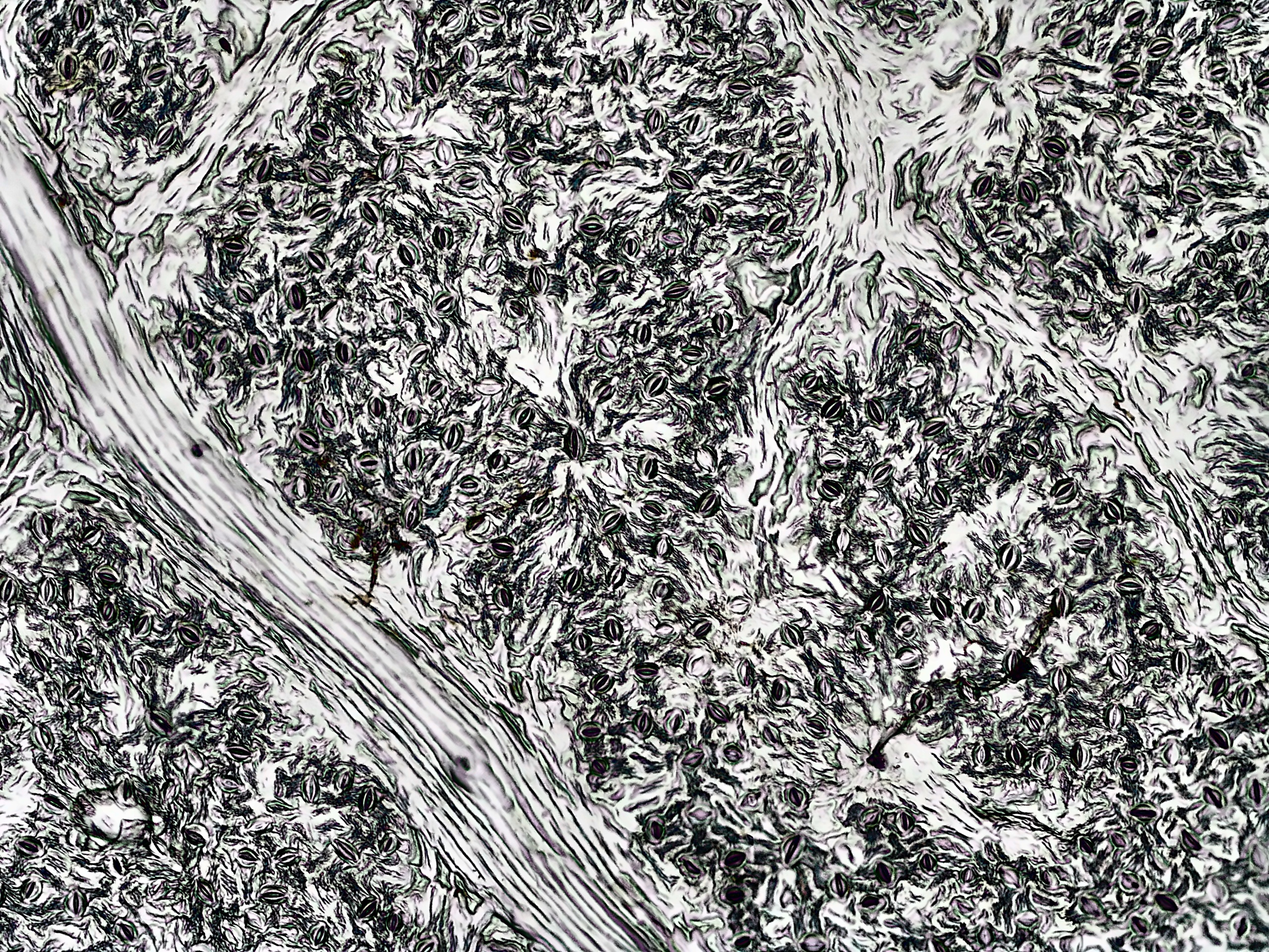stomata: (1048, 477, 1079, 505), (401, 496, 425, 531), (1123, 284, 1149, 316), (720, 149, 753, 174), (564, 428, 587, 463), (974, 53, 1002, 81), (30, 512, 55, 543), (592, 141, 615, 174), (333, 837, 361, 864), (764, 210, 793, 236), (997, 542, 1023, 571), (772, 117, 806, 139), (404, 444, 427, 476), (1007, 398, 1039, 421), (1113, 572, 1145, 595), (1173, 303, 1201, 329), (378, 148, 400, 181), (743, 40, 772, 65), (711, 2, 735, 32), (940, 325, 963, 356), (442, 420, 464, 452), (637, 496, 664, 522), (1209, 725, 1234, 753), (1103, 703, 1128, 731), (771, 154, 801, 177), (1069, 741, 1092, 771), (304, 202, 335, 224), (1069, 531, 1100, 553), (1003, 650, 1025, 681), (501, 206, 527, 232), (643, 372, 669, 398), (130, 655, 155, 682), (668, 167, 695, 192), (1205, 878, 1232, 903), (896, 645, 923, 670), (477, 2, 505, 26), (613, 57, 636, 86), (782, 834, 805, 863), (473, 375, 508, 394), (507, 66, 529, 96), (994, 595, 1016, 625), (301, 773, 322, 804), (15, 835, 46, 856), (815, 672, 836, 703), (76, 726, 102, 751), (599, 508, 624, 534), (432, 138, 456, 165), (595, 335, 619, 362), (527, 12, 555, 35), (487, 448, 510, 476), (768, 678, 791, 706), (910, 521, 933, 549), (712, 309, 734, 338), (706, 376, 732, 400), (285, 285, 308, 312), (177, 623, 204, 646), (698, 490, 721, 517), (664, 709, 686, 737), (1035, 75, 1064, 96), (874, 542, 895, 571), (309, 917, 328, 949), (1052, 664, 1071, 696), (432, 292, 457, 316), (19, 878, 43, 903), (148, 834, 172, 859), (182, 825, 212, 845), (1096, 111, 1121, 135), (1052, 590, 1072, 620), (222, 921, 245, 947), (482, 103, 505, 129), (594, 263, 620, 286), (565, 55, 584, 86), (1130, 803, 1161, 822), (803, 717, 831, 738), (422, 66, 442, 95), (529, 265, 549, 294), (274, 848, 303, 868), (663, 280, 692, 300), (359, 200, 384, 223), (782, 622, 805, 647), (397, 241, 419, 267), (930, 483, 952, 509), (854, 626, 876, 652), (577, 216, 607, 235), (986, 223, 1016, 242), (306, 122, 333, 143), (639, 454, 660, 481), (819, 481, 846, 502), (830, 527, 851, 554), (978, 453, 999, 480), (1154, 892, 1182, 912), (1056, 24, 1084, 44), (98, 43, 116, 74), (972, 174, 996, 197), (1025, 256, 1048, 280), (1073, 224, 1092, 253), (185, 745, 207, 770), (196, 878, 218, 903), (592, 381, 617, 403), (902, 324, 924, 349), (1235, 278, 1257, 303), (492, 536, 518, 557), (644, 817, 665, 843), (1104, 498, 1125, 524), (963, 599, 984, 625), (259, 884, 291, 901), (697, 444, 717, 471), (829, 871, 849, 898), (961, 678, 981, 705), (458, 42, 477, 70), (67, 890, 86, 918), (306, 249, 329, 272), (704, 543, 727, 566), (1180, 828, 1203, 851), (155, 123, 177, 147), (682, 343, 706, 365), (874, 861, 896, 885), (1202, 785, 1224, 809), (1041, 137, 1065, 159), (1115, 171, 1137, 195), (1222, 504, 1244, 528), (513, 403, 534, 428), (1246, 779, 1267, 804), (653, 533, 671, 562), (737, 658, 755, 687), (563, 567, 583, 593), (1231, 913, 1251, 939), (866, 398, 886, 424), (484, 249, 503, 276), (37, 578, 56, 605), (217, 773, 244, 792), (547, 116, 566, 143), (620, 231, 639, 258), (1177, 184, 1204, 203), (1110, 654, 1129, 681), (432, 225, 454, 248), (358, 897, 380, 920), (507, 144, 530, 166), (703, 202, 725, 225), (591, 672, 614, 694), (761, 724, 783, 747), (922, 416, 945, 438), (945, 446, 968, 468), (1140, 618, 1162, 641), (381, 300, 402, 324), (36, 723, 54, 751), (1082, 894, 1103, 918), (1017, 179, 1038, 203), (1034, 751, 1055, 775), (1209, 675, 1230, 699), (133, 21, 158, 41), (318, 405, 338, 430), (686, 112, 706, 137), (652, 576, 672, 601), (911, 689, 931, 714), (403, 407, 422, 433), (604, 617, 623, 643), (905, 367, 931, 386), (932, 595, 951, 621), (58, 54, 76, 81), (606, 562, 624, 589), (579, 721, 606, 739), (1215, 12, 1242, 30), (689, 34, 711, 56), (860, 808, 882, 830), (336, 531, 359, 552), (688, 654, 709, 677), (708, 701, 731, 722), (682, 854, 703, 877), (409, 344, 429, 368), (1163, 742, 1183, 766), (1206, 62, 1231, 81), (821, 451, 846, 470), (42, 794, 68, 812), (688, 804, 714, 822), (298, 430, 320, 451), (149, 712, 171, 733), (466, 514, 488, 535), (999, 866, 1021, 887), (1022, 439, 1043, 461), (244, 908, 264, 931), (1130, 915, 1150, 938), (1113, 64, 1136, 84), (1126, 3, 1146, 26), (72, 5, 91, 29), (307, 165, 331, 184), (293, 476, 312, 500), (81, 528, 105, 547), (134, 614, 153, 638), (380, 833, 399, 857), (632, 321, 651, 345), (368, 396, 386, 421), (356, 453, 381, 471), (227, 743, 252, 761), (456, 172, 482, 189), (358, 786, 375, 812), (1237, 685, 1254, 711), (237, 847, 258, 868), (335, 79, 357, 99), (572, 633, 594, 653), (896, 4, 918, 24), (117, 921, 136, 944), (146, 878, 169, 897), (729, 596, 752, 615), (870, 463, 893, 482), (459, 476, 483, 494), (494, 585, 512, 609), (634, 662, 658, 680), (634, 711, 652, 735), (680, 748, 704, 766), (1174, 649, 1190, 676), (896, 810, 913, 835), (147, 64, 168, 84), (188, 66, 209, 86), (278, 187, 298, 208), (30, 650, 51, 670), (786, 786, 806, 807), (1198, 250, 1218, 271), (897, 616, 917, 637), (109, 98, 128, 120), (1231, 227, 1250, 249), (866, 591, 885, 613), (648, 108, 664, 134), (1147, 40, 1173, 56), (236, 205, 259, 223), (1177, 105, 1200, 123), (973, 743, 991, 766), (224, 237, 248, 254), (326, 479, 343, 503), (1008, 741, 1025, 765), (296, 348, 312, 373), (442, 8, 461, 29), (723, 745, 744, 764), (1026, 713, 1045, 734), (110, 855, 128, 877), (532, 496, 550, 518), (662, 230, 685, 247), (0, 578, 15, 604), (255, 158, 271, 182), (336, 340, 352, 364), (236, 284, 256, 303), (725, 849, 745, 868), (505, 302, 526, 320), (1121, 871, 1142, 889), (1072, 298, 1093, 316), (250, 343, 266, 366), (264, 800, 292, 813), (1042, 867, 1061, 886), (690, 619, 710, 637), (824, 400, 842, 420), (161, 783, 178, 804), (804, 935, 825, 952), (183, 328, 199, 350), (579, 0, 601, 16), (248, 818, 273, 832), (97, 568, 120, 583), (428, 380, 446, 399), (65, 681, 83, 700), (360, 254, 376, 275), (334, 769, 350, 790), (860, 894, 881, 910), (1221, 136, 1242, 152), (653, 622, 675, 637), (727, 886, 745, 904), (205, 358, 219, 381), (1018, 910, 1038, 926), (1108, 832, 1128, 848), (672, 0, 693, 15), (236, 707, 260, 720), (101, 600, 115, 622), (921, 853, 937, 872), (1079, 835, 1095, 854), (1175, 150, 1194, 166), (728, 81, 753, 93), (1241, 359, 1256, 379), (1133, 690, 1150, 707), (76, 640, 94, 656), (1119, 757, 1137, 773), (416, 939, 438, 952), (388, 913, 402, 933), (215, 334, 228, 355), (978, 927, 993, 945), (1251, 0, 1269, 15), (592, 759, 608, 775), (1256, 71, 1269, 90), (957, 899, 973, 914), (804, 374, 819, 390), (36, 28, 49, 46), (961, 866, 974, 884), (149, 0, 170, 11), (745, 791, 759, 807), (0, 712, 12, 729), (737, 935, 751, 948), (856, 0, 881, 7)
